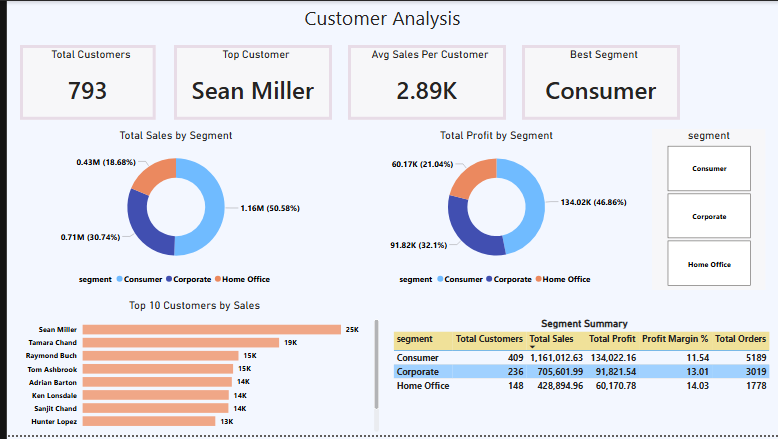

The page's visual inventory and layout, read from the dashboard file:
{"tool":"powerbi","page":{"name":"Customer Analysis","canvas":[1280,720],"ordinal":3},"visuals":[{"type":"textbox","box":[371.2,0,502.3,72.2],"z":0},{"type":"cardVisual","title":"Total Customers","fields":{"Data":["fact_sales.Total Customers"]},"box":[21.6,73,225.5,124.4],"z":1000},{"type":"cardVisual","title":"Top Customer","fields":{"Data":["fact_sales.Top Customer"]},"box":[276.9,73,262,124.4],"z":2000},{"type":"cardVisual","title":"Avg Sales Per Customer","fields":{"Data":["fact_sales.Avg Sales Per Customer"]},"box":[565.4,73,262,124.4],"z":3000},{"type":"cardVisual","title":"Best Segment","fields":{"Data":["fact_sales.Best Segment"]},"box":[853.9,73,262,124.4],"z":4000},{"type":"barChart","title":"Top 10 Customers by Sales","fields":{"Y":["fact_sales.Total Sales"],"Category":["dim_customer.customer_name"]},"box":[0,494.1,621.8,225.5],"z":5000},{"type":"donutChart","title":"Total Sales by Segment","fields":{"Y":["fact_sales.Total Sales"],"Category":["dim_customer.segment"]},"box":[21.6,212.2,517.3,266.9],"z":6000},{"type":"donutChart","title":"Total Profit by Segment","fields":{"Category":["dim_customer.segment"],"Y":["fact_sales.Total Profit"]},"box":[565.4,212.2,492.4,266.9],"z":7000},{"type":"tableEx","title":"Segment Summary","fields":{"Values":["dim_customer.segment","fact_sales.Total Customers","fact_sales.Total Sales","fact_sales.Total Profit","fact_sales.Profit Margin %","fact_sales.Total Orders"]},"box":[635,523.9,645,195.6],"z":8000},{"type":"slicer","title":"segment","fields":{"Values":["dim_customer.segment"]},"box":[1069.2,212.7,188.5,266.8],"z":9000}]}

Visuals, with their boxes in screenshot pixels (x1, y1, x2, y2), scaled from the page's 1280x720 canvas onto the 778x439 screenshot:
textbox: [226, 0, 531, 44]
"Total Customers" cardVisual: [13, 45, 150, 120]
"Top Customer" cardVisual: [168, 45, 328, 120]
"Avg Sales Per Customer" cardVisual: [344, 45, 503, 120]
"Best Segment" cardVisual: [519, 45, 678, 120]
"Top 10 Customers by Sales" barChart: [0, 301, 378, 438]
"Total Sales by Segment" donutChart: [13, 129, 328, 292]
"Total Profit by Segment" donutChart: [344, 129, 643, 292]
"Segment Summary" tableEx: [386, 319, 777, 438]
"segment" slicer: [650, 130, 764, 292]
